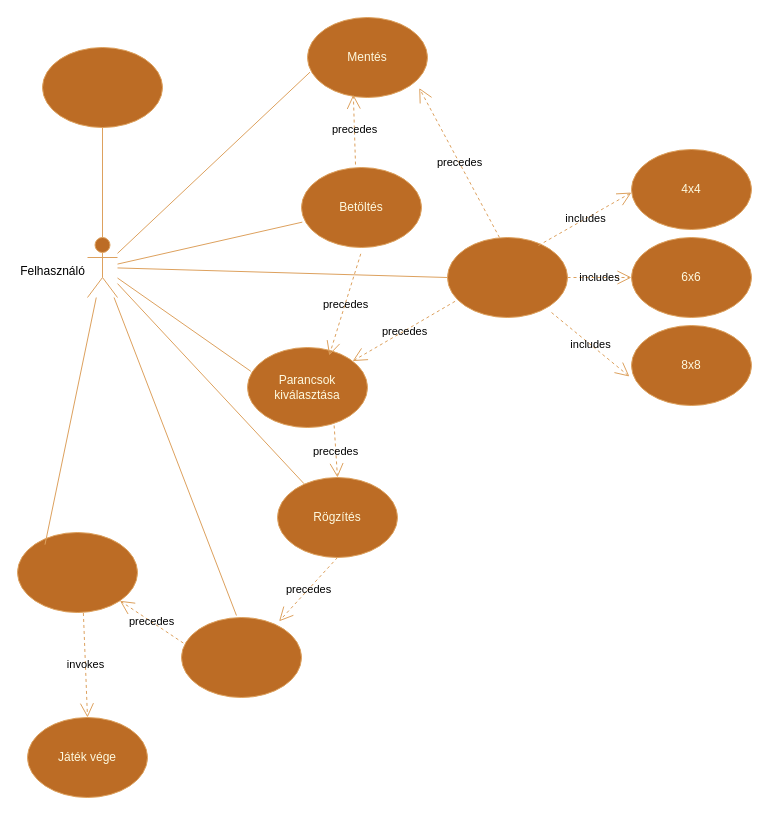
The diagram is 769 pixels wide and 815 high, and some of its shapes have lost their labels. Here are the shapes that lost their labels. From the top down, the box of each, then its label:
(42, 46, 162, 128): Kilépés
(446, 236, 568, 318): Új játék
(16, 532, 138, 612): Következő
(180, 616, 302, 698): Kezdés
